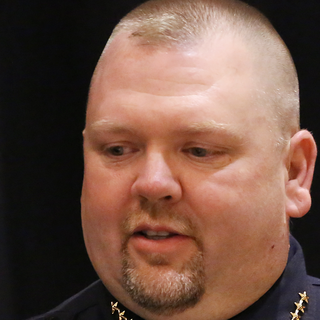eye: (174, 139, 229, 168), (98, 136, 141, 164)
